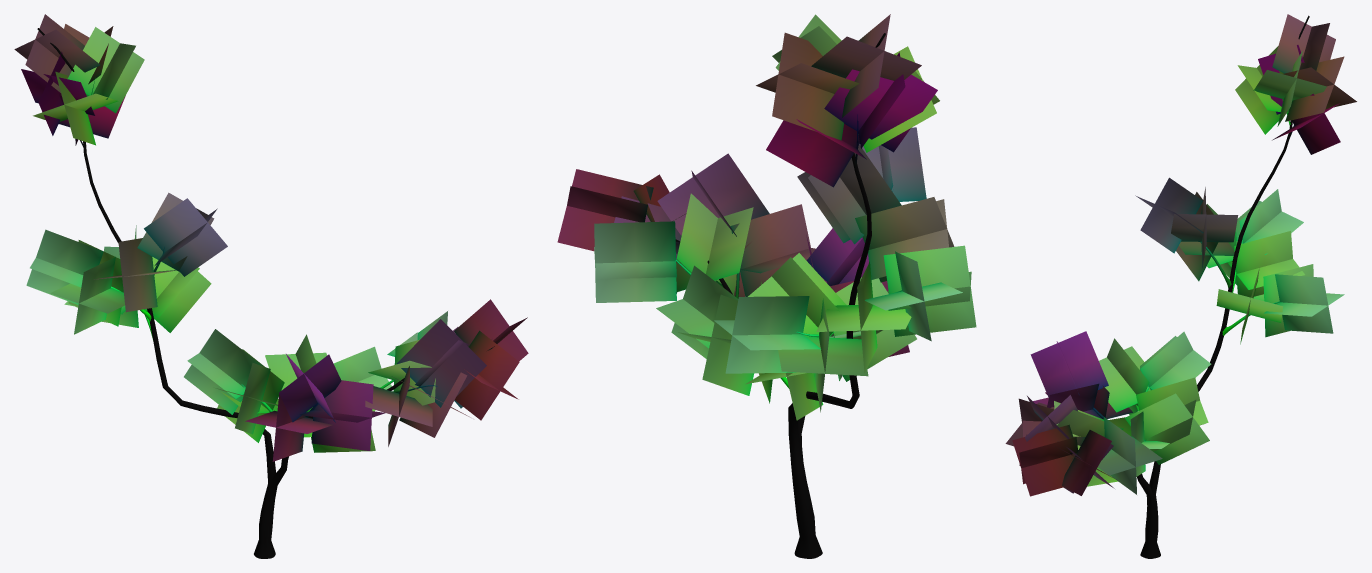
Rendered from URP_P5_Tree_9_LOD_0.fbx.
The picture shows the model from 3 angles, left to right: view 1: azimuth 30°, elevation 25°; view 2: azimuth 150°, elevation 25°; view 3: azimuth 270°, elevation 25°; orthographic projection. The views are drawn at different scales.
Parts seen in each view (by area): view 1: Tree_9_LOD_0; view 2: Tree_9_LOD_0; view 3: Tree_9_LOD_0.
Boxes of the visible parts, x1,y1,x2,y2 form: Tree_9_LOD_0: (14, 14, 528, 558); Tree_9_LOD_0: (557, 14, 976, 558); Tree_9_LOD_0: (1005, 14, 1356, 558).
Bounding box in the file's own units: 579 × 690 × 461.
